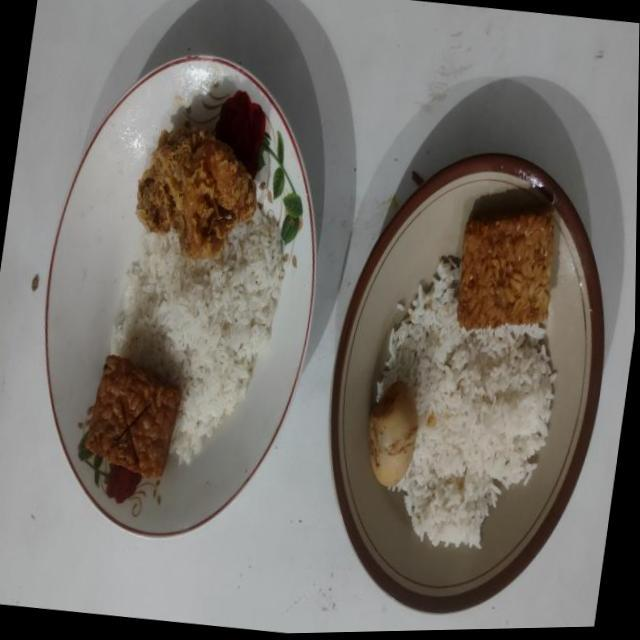nasi_putih: (376, 255, 556, 548), (110, 208, 285, 464)
tempe_goreng: (456, 206, 554, 330), (85, 355, 180, 477)
